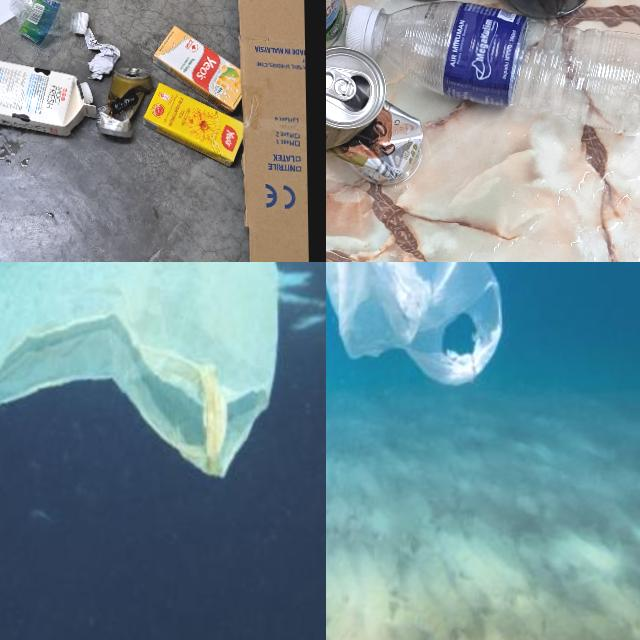aba de lata: (326, 67, 356, 99), (126, 68, 140, 74)
caixinha: (0, 45, 97, 138), (144, 80, 242, 166), (153, 24, 241, 111)
garrafa plástica: (377, 0, 640, 140), (1, 0, 88, 41)
lata: (326, 44, 424, 187), (98, 67, 150, 137)
papel: (86, 27, 120, 80)
papelão: (236, 0, 308, 262), (237, 0, 309, 262)
sacola plástica: (0, 262, 290, 582)
tampa plástica: (346, 4, 374, 52), (80, 81, 94, 104), (75, 10, 88, 34)
